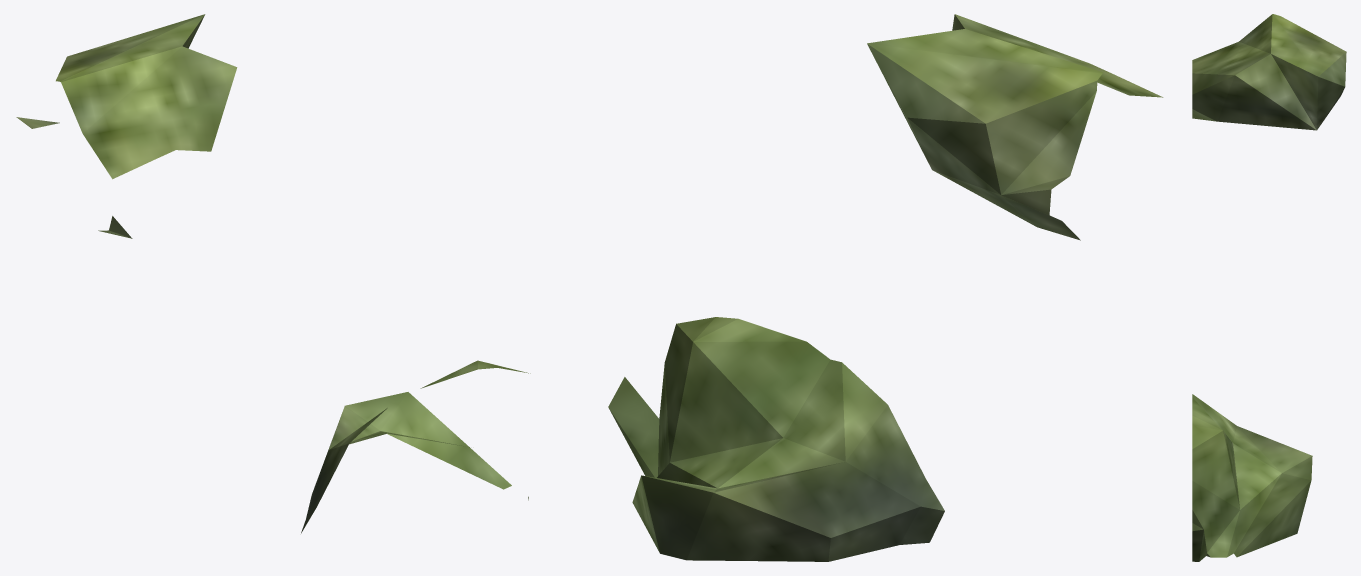
The picture shows the model from 3 angles, left to right: view 1: azimuth 30°, elevation 25°; view 2: azimuth 150°, elevation 25°; view 3: azimuth 270°, elevation 25°; orthographic projection. The views are drawn at different scales.
Size of the model in its own units: 10.26 by 10.39 by 3.75.
1 material, 1 textured.
